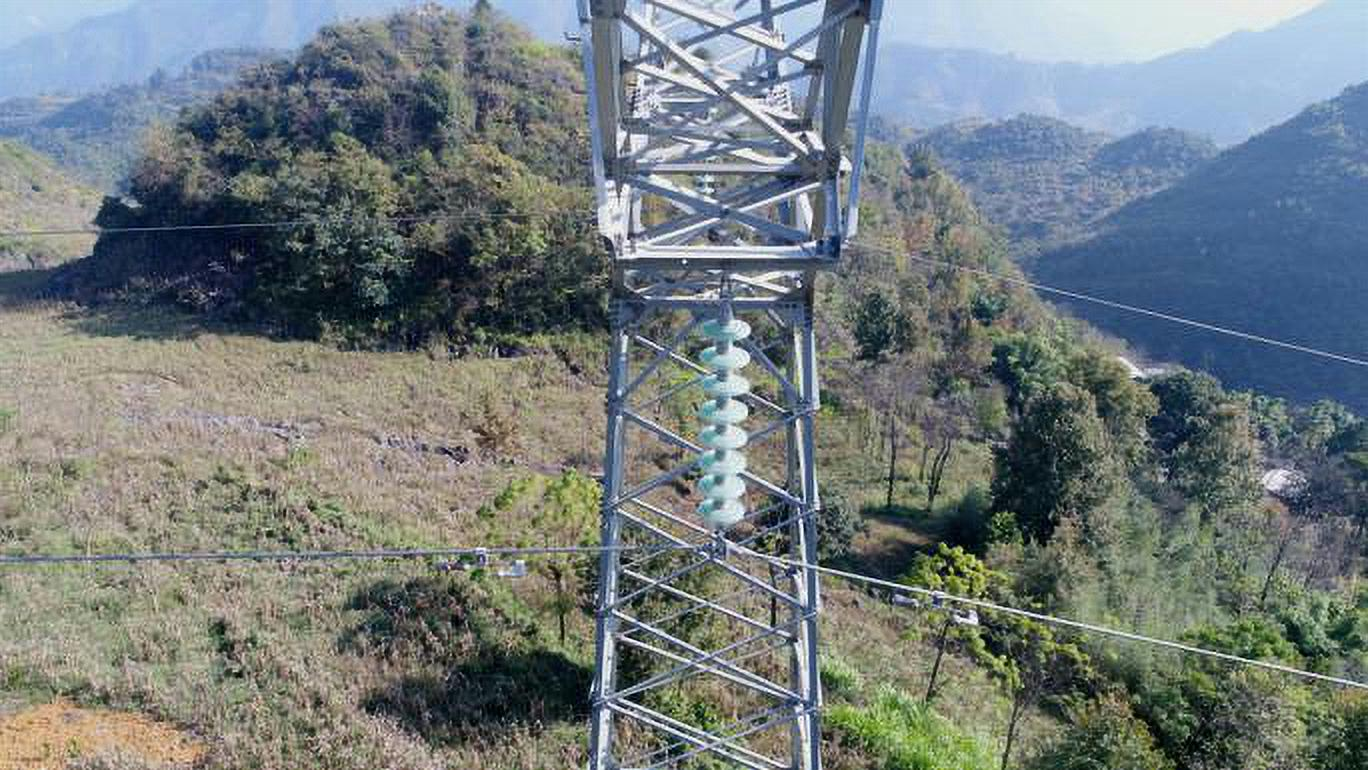insulator: (692, 316, 754, 527)
